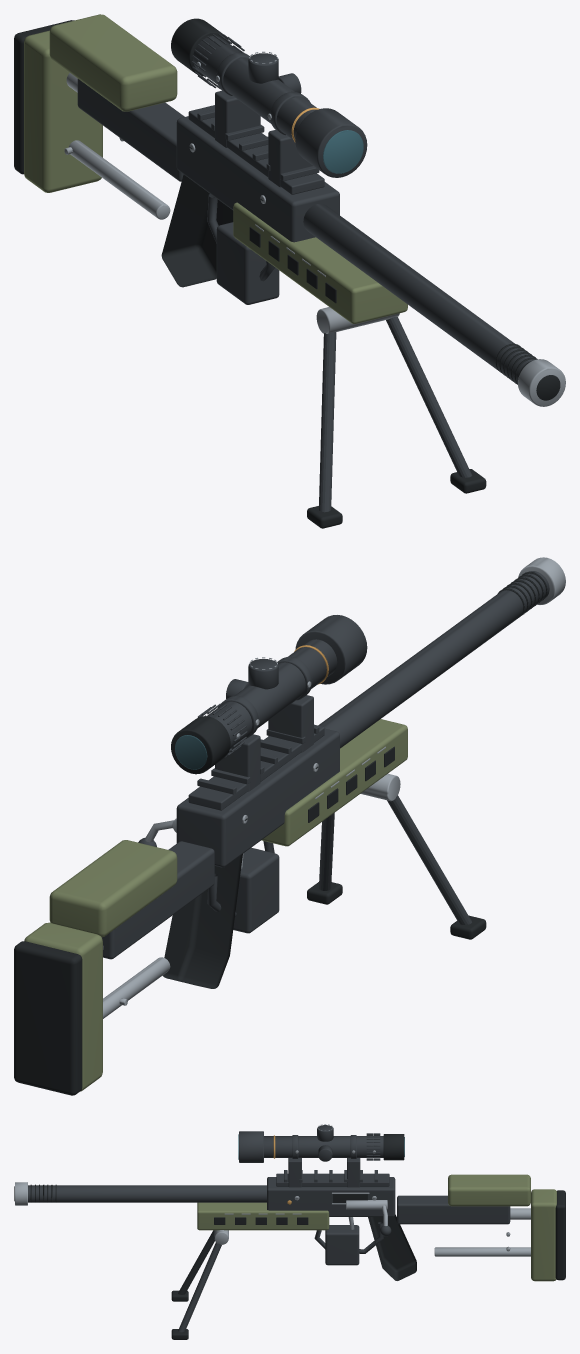
File: ks-rifle-sniper.glb
3 renders of one model, top to bottom at view 1: azimuth 30°, elevation 25°; view 2: azimuth 150°, elevation 25°; view 3: azimuth 270°, elevation 25°, orthographic. The views are drawn at different scales.
Visible parts, largest first — view 1: static_batch_Graphite, static_batch_Olive_enamel, static_batch_Soft_matte_contact_pads, static_batch_Satin_stainless_details, scope_glass_front; view 2: static_batch_Graphite, static_batch_Soft_matte_contact_pads, static_batch_Olive_enamel, static_batch_Satin_stainless_details, scope_glass_rear; view 3: static_batch_Graphite, static_batch_Olive_enamel, static_batch_Soft_matte_contact_pads, static_batch_Satin_stainless_details, bolt.
Boxes of the visible parts, left/top/right/bottom form: static_batch_Graphite: left=77, top=33, right=535, bottom=512; static_batch_Olive_enamel: left=24, top=14, right=407, bottom=323; static_batch_Soft_matte_contact_pads: left=14, top=18, right=560, bottom=528; static_batch_Satin_stainless_details: left=64, top=51, right=565, bottom=406; scope_glass_front: left=323, top=130, right=363, bottom=173; static_batch_Graphite: left=102, top=571, right=549, bottom=959; static_batch_Soft_matte_contact_pads: left=14, top=571, right=547, bottom=1095; static_batch_Olive_enamel: left=24, top=719, right=407, bottom=1091; static_batch_Satin_stainless_details: left=103, top=557, right=565, bottom=1018; scope_glass_rear: left=175, top=735, right=207, bottom=769; static_batch_Graphite: left=28, top=1125, right=510, bottom=1332; static_batch_Olive_enamel: left=197, top=1174, right=556, bottom=1281; static_batch_Soft_matte_contact_pads: left=14, top=1134, right=565, bottom=1339; static_batch_Satin_stainless_details: left=15, top=1124, right=530, bottom=1256; bolt: left=346, top=1200, right=387, bottom=1209.
Bounding box in the file's own units: 0.278 × 0.5585 × 1.46.
